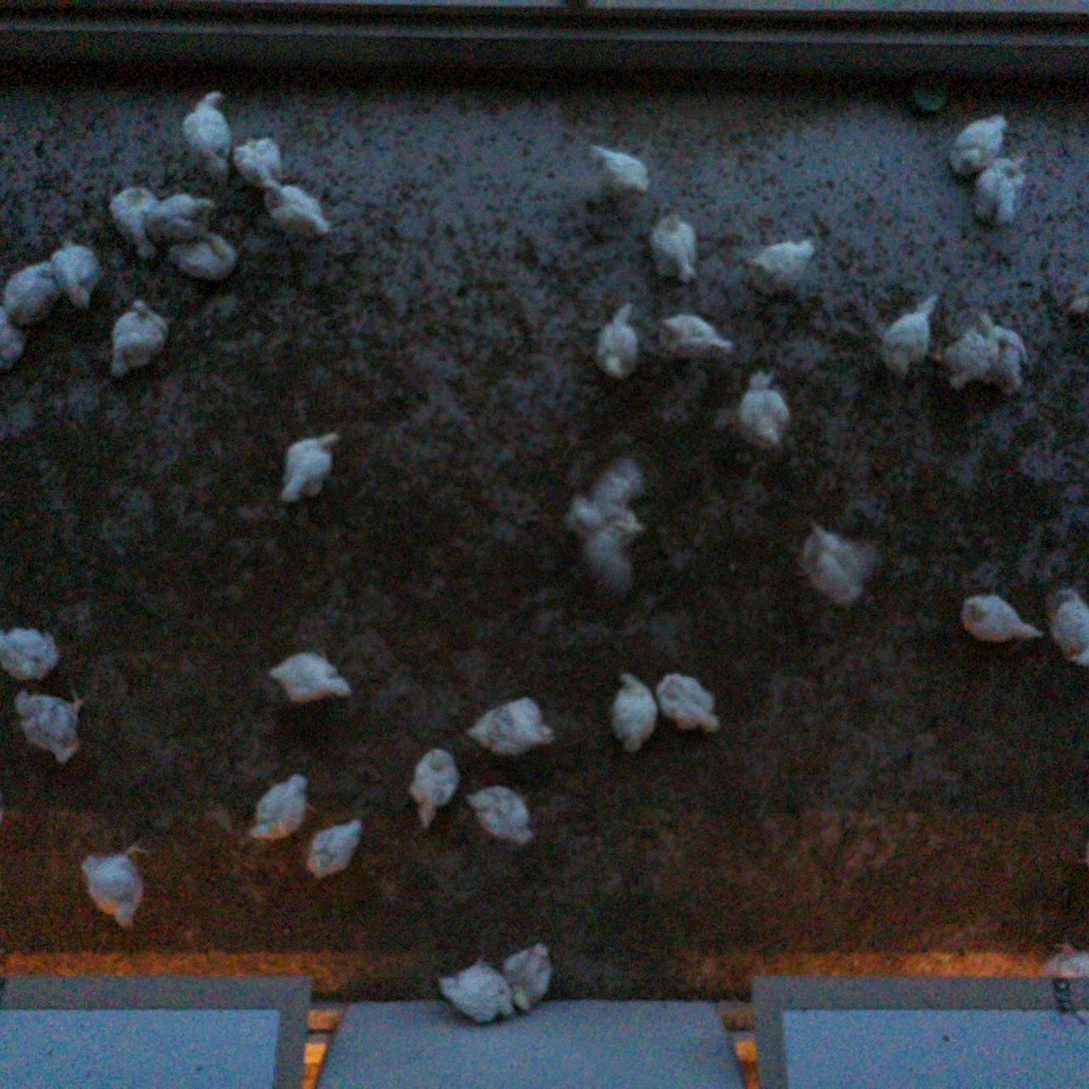chicken: (563, 456, 651, 592), (800, 520, 879, 606), (921, 305, 996, 394), (868, 287, 940, 374), (10, 682, 87, 763), (80, 839, 145, 930), (435, 957, 517, 1026), (465, 694, 554, 756), (179, 83, 232, 182), (257, 171, 332, 240), (108, 180, 168, 263), (108, 296, 171, 375), (466, 782, 537, 852), (266, 650, 355, 705), (655, 667, 724, 737), (248, 771, 316, 842), (280, 426, 339, 507), (745, 231, 819, 295), (643, 201, 698, 285), (734, 367, 791, 448), (960, 591, 1042, 647), (230, 131, 291, 206), (976, 313, 1028, 399), (406, 744, 459, 828), (2, 256, 62, 329), (495, 939, 554, 1013), (584, 140, 652, 204), (949, 111, 1011, 181), (971, 150, 1027, 227), (47, 238, 103, 313), (147, 186, 214, 248), (304, 815, 367, 879), (614, 667, 660, 752), (171, 227, 239, 283), (0, 620, 60, 683), (653, 312, 735, 358), (595, 299, 641, 379), (1046, 583, 1089, 665), (0, 299, 26, 372), (1067, 283, 1089, 323)
